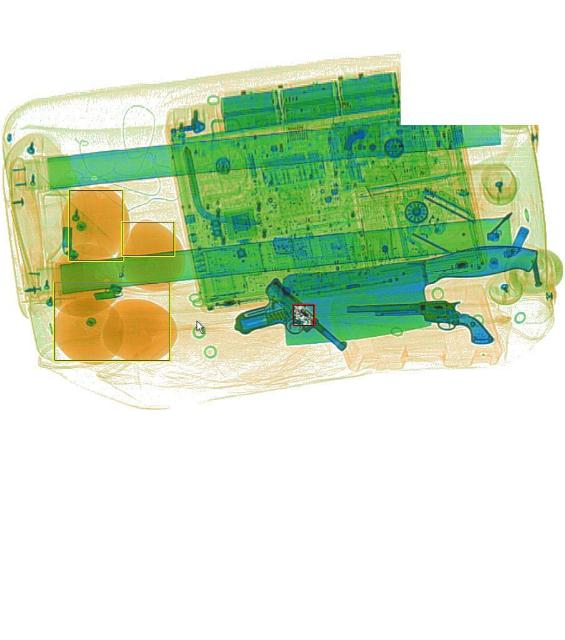Gun: (230, 275, 347, 395), (345, 298, 494, 344)
Knife: (276, 238, 543, 348)
